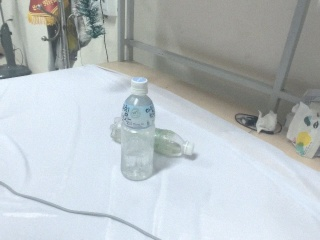bottle: (112, 76, 157, 181)
cup: (153, 127, 196, 158)
